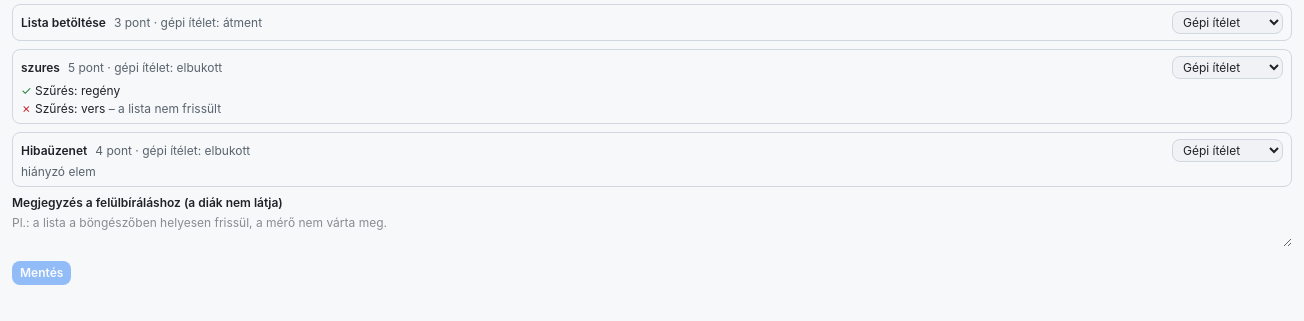
it: GepiFelulbiralasComponent › a BE hibaüzenete (pl. 409 böngészős beadás) a gomb alatt; a szülő nem kap pillanatképet
Select "Kézi: átment" in the dropdown in the row of "4 pont · gépi ítélet: elbukott" at (1228, 150), box [1172, 139, 1283, 162]
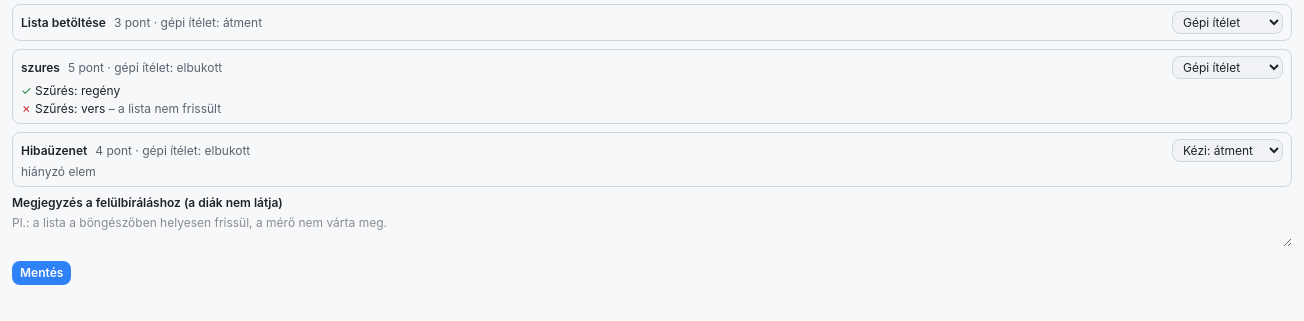
Click the button with test id "machine-save-41" at (42, 273), box [12, 261, 71, 285]
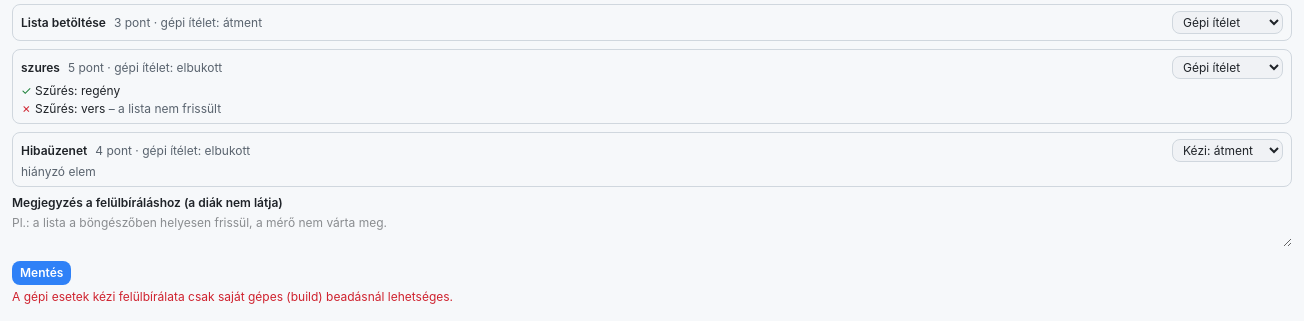
Now the message with test id "machine-error" shows "csak saját gépes (build) beadásnál", box [12, 289, 453, 304]
